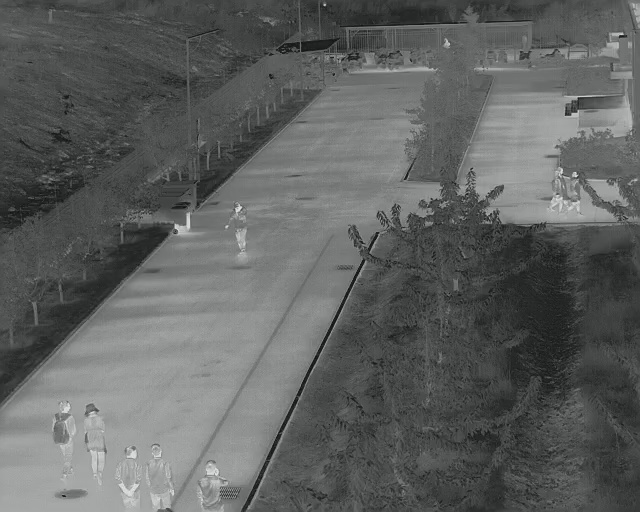person: (51, 402, 78, 484), (83, 402, 110, 483), (146, 441, 177, 509), (116, 444, 143, 510), (226, 201, 253, 260), (198, 458, 226, 512), (550, 166, 565, 210), (569, 171, 582, 211)
